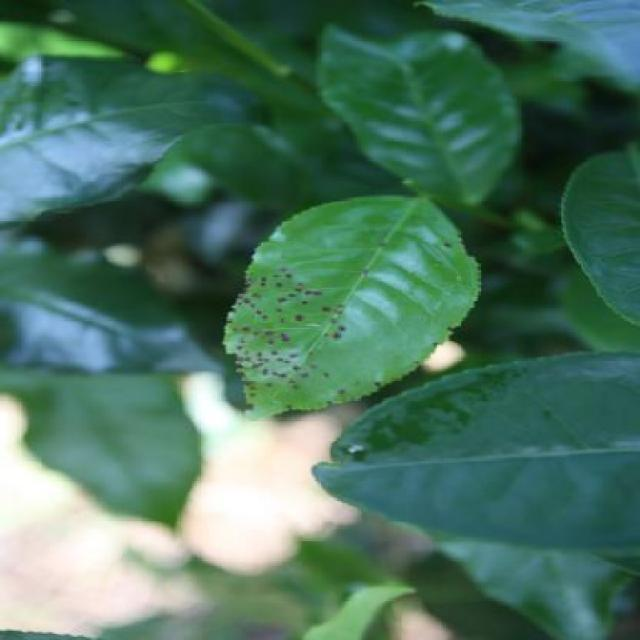Tea Mosquito bug infested leaf: (191, 203, 475, 415)
